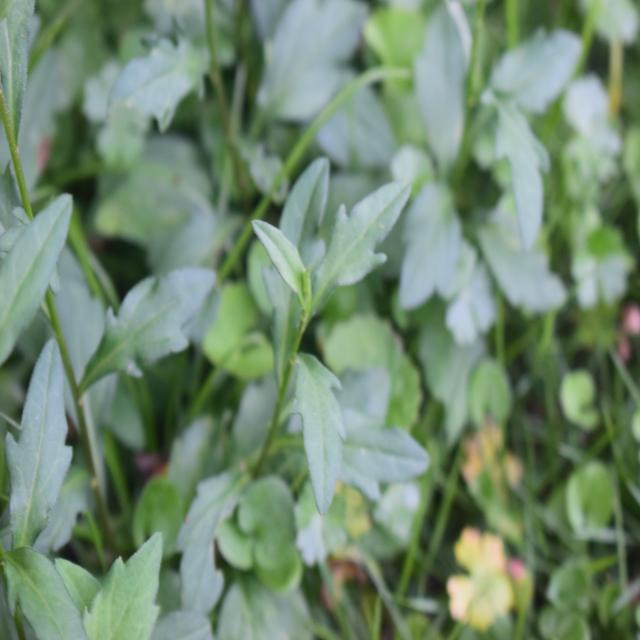Indian aster: (157, 161, 437, 530)
